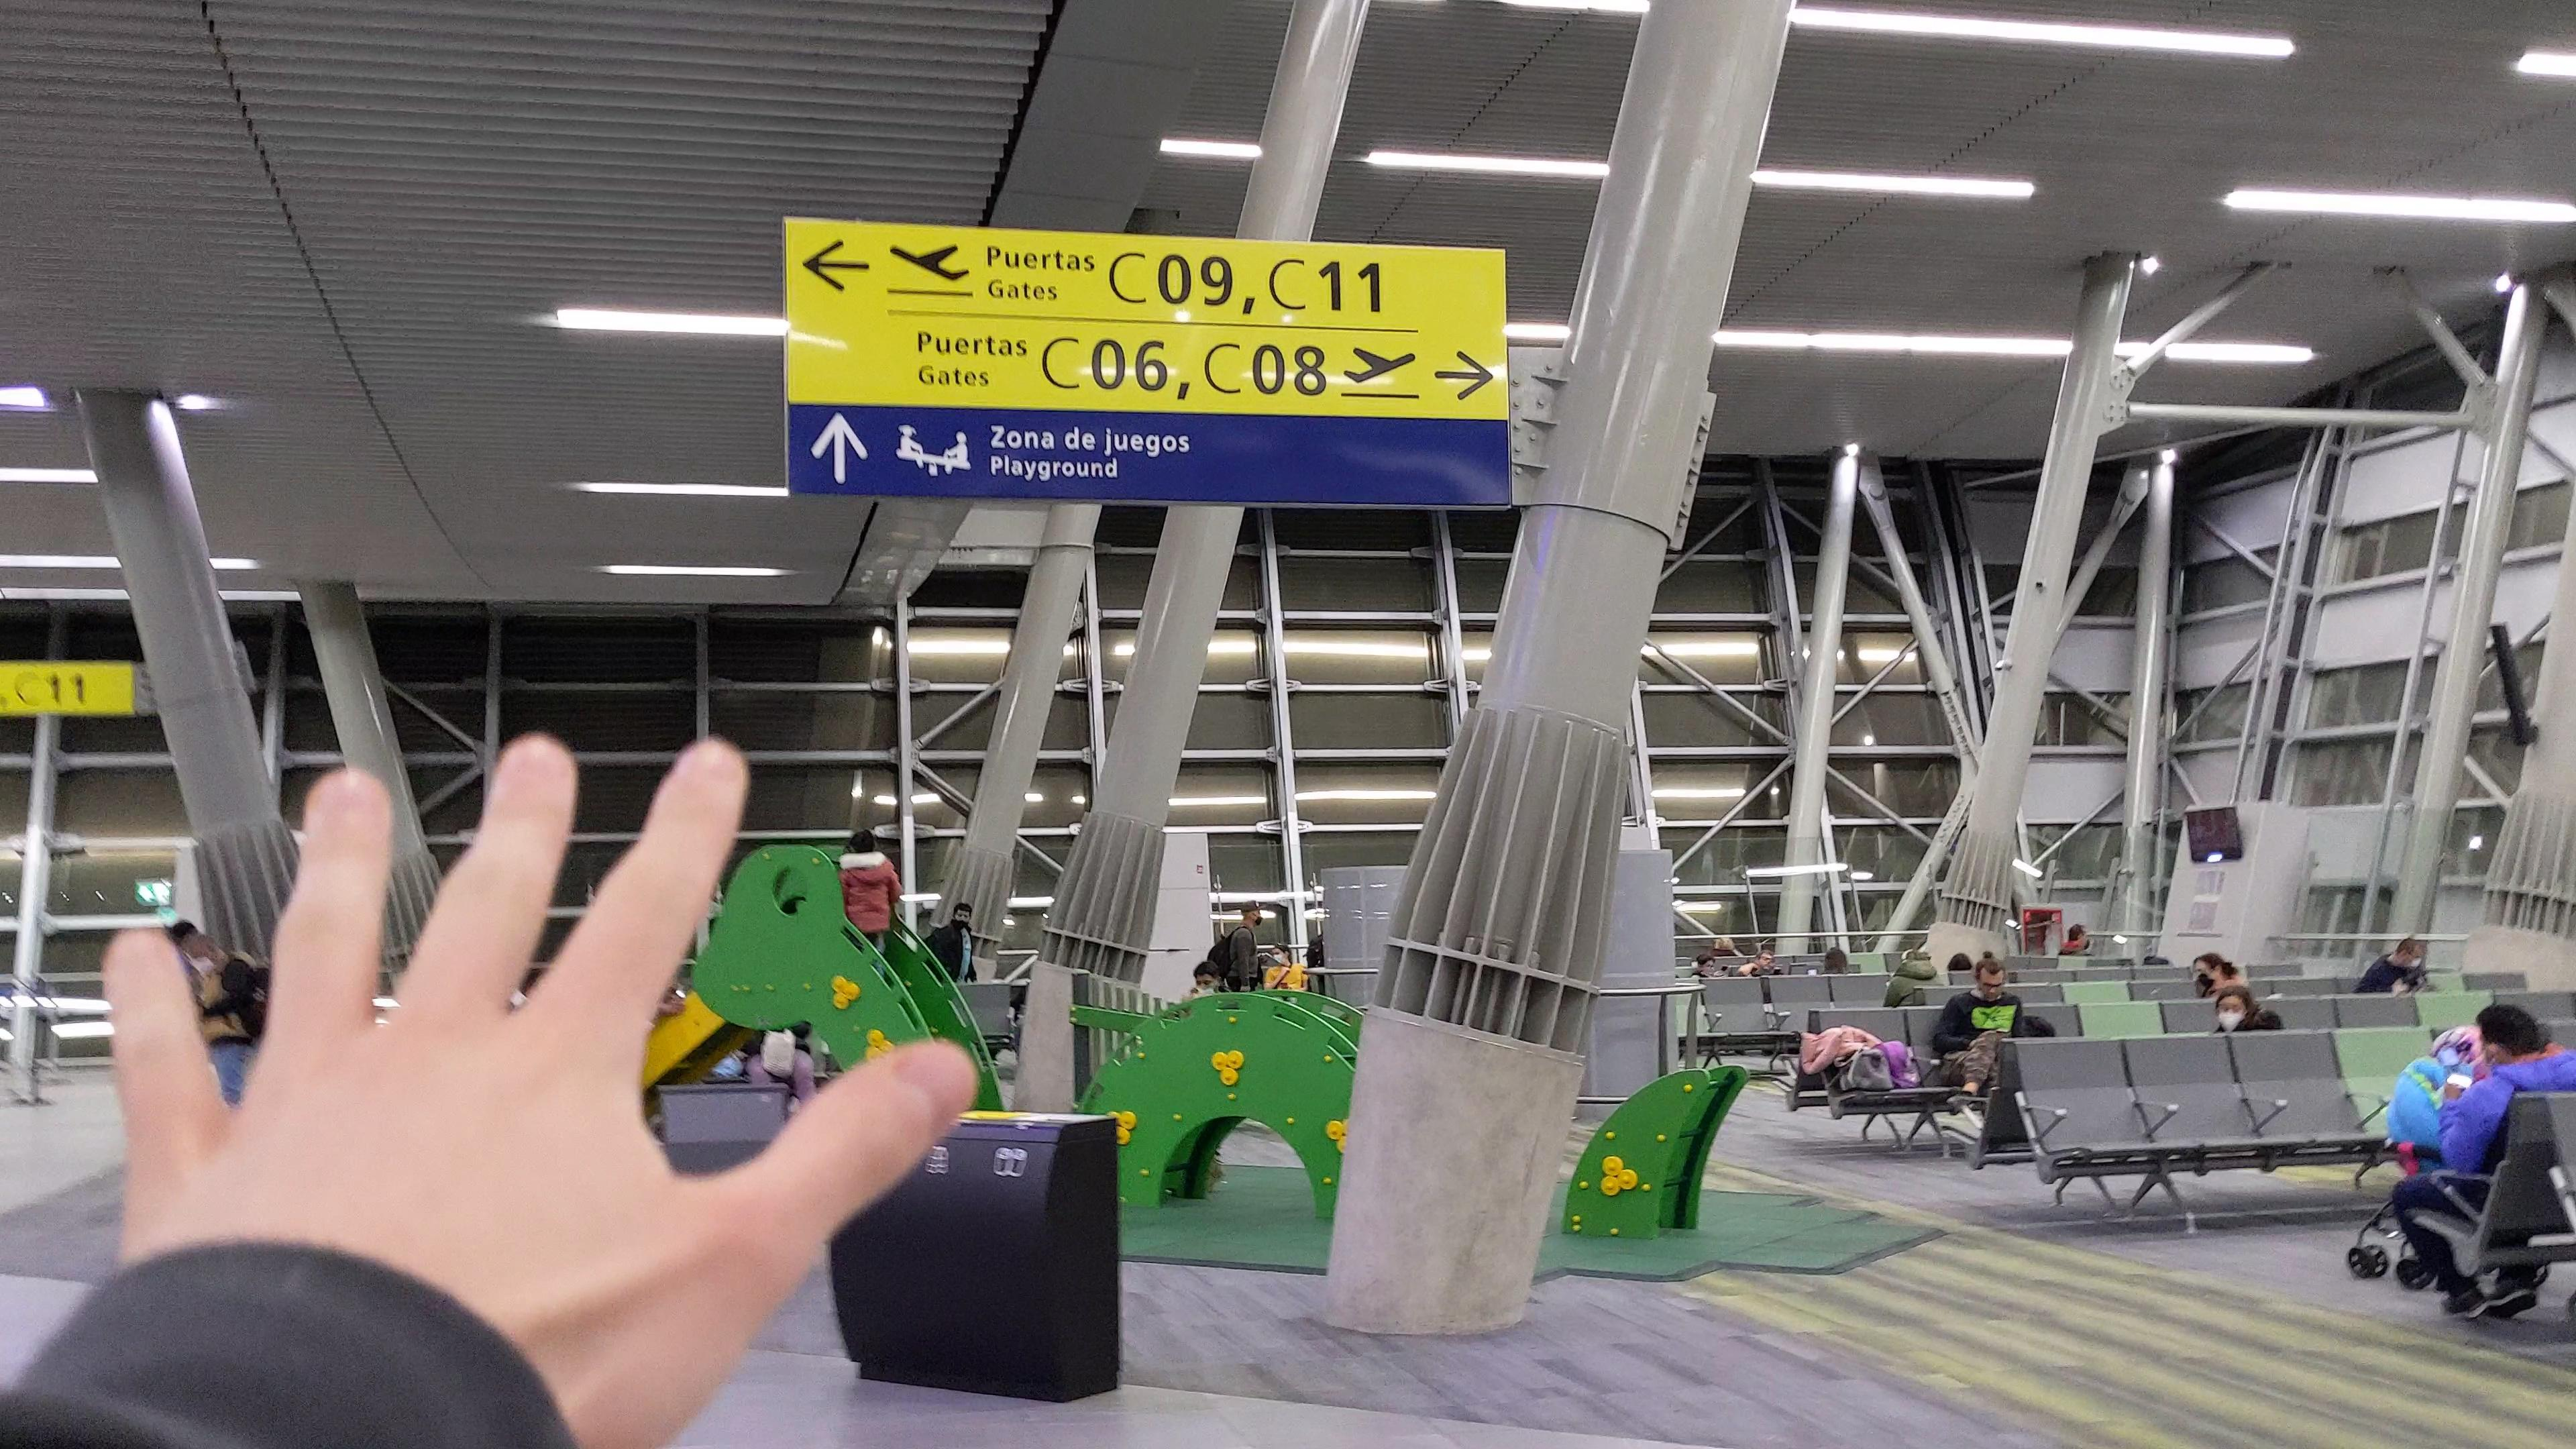airplane symbol: (890, 239, 975, 288), (1339, 343, 1417, 389)
thin left arrow: (798, 237, 872, 295)
thin right arrow: (1431, 347, 1507, 395)
thin up arrow: (809, 412, 869, 487)
